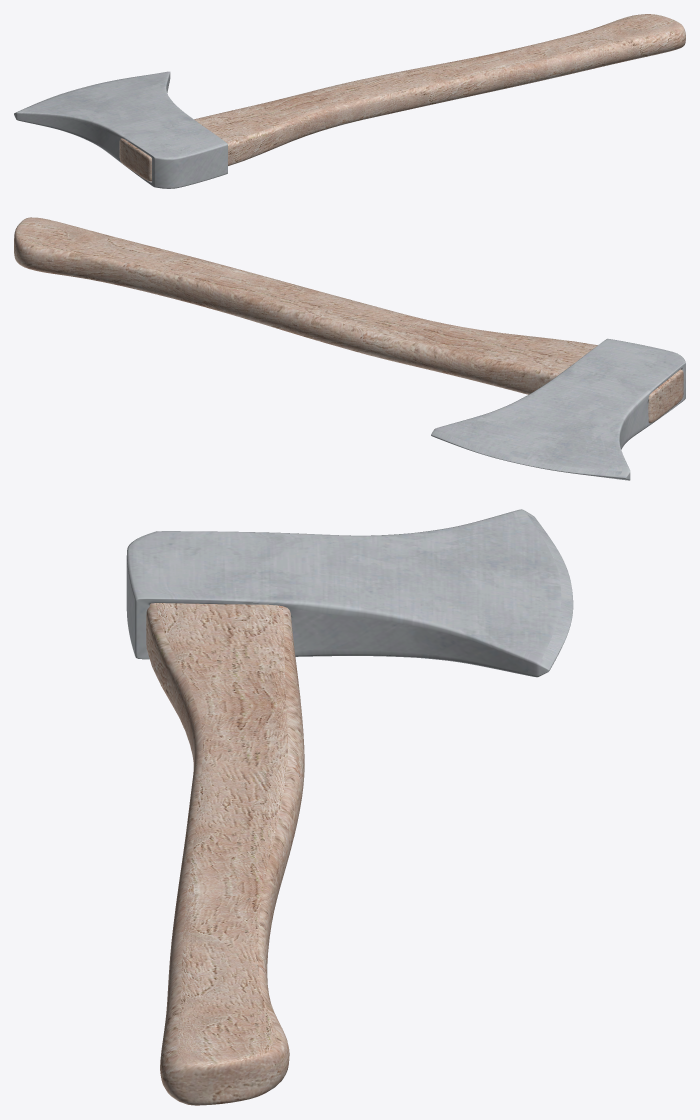
The model's file is other_axe.fbx.
The picture shows the model from 3 angles, top to bottom: view 1: azimuth 30°, elevation 25°; view 2: azimuth 150°, elevation 25°; view 3: azimuth 270°, elevation 25°; orthographic projection. The views are drawn at different scales.
Parts seen in each view (by area): view 1: other_axe; view 2: other_axe; view 3: other_axe.
Part boxes in pixels (box(x1,y1,x2,y2)): other_axe: box(14, 14, 685, 188); other_axe: box(14, 217, 685, 480); other_axe: box(126, 509, 573, 1105).
Bounding box in the file's own units: 24.51 × 1.24 × 8.12.
